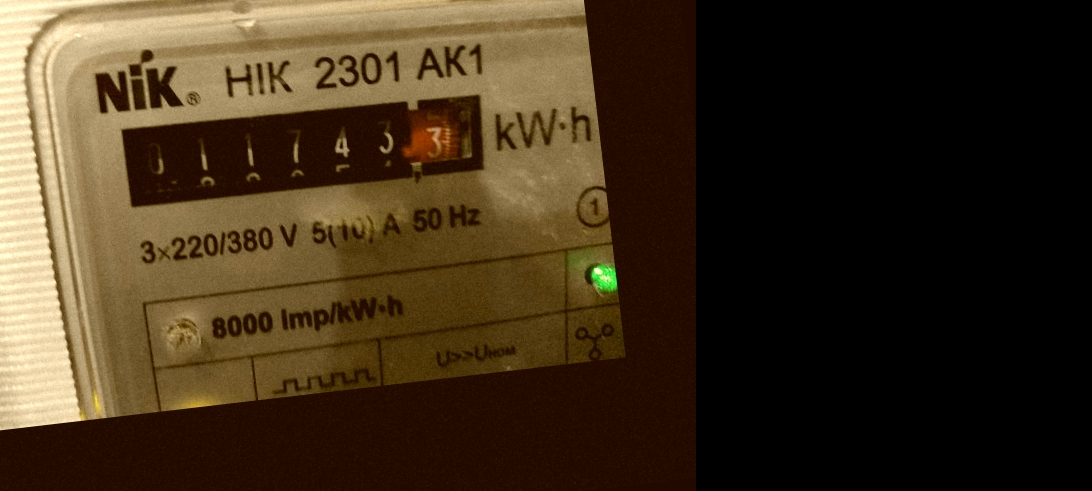0: (141, 138, 168, 179), (191, 131, 213, 174)
1: (238, 127, 258, 170)
3: (372, 114, 397, 159), (421, 121, 445, 161)
4: (327, 119, 352, 161)
7: (280, 121, 308, 168)
screen: (99, 73, 497, 224)
